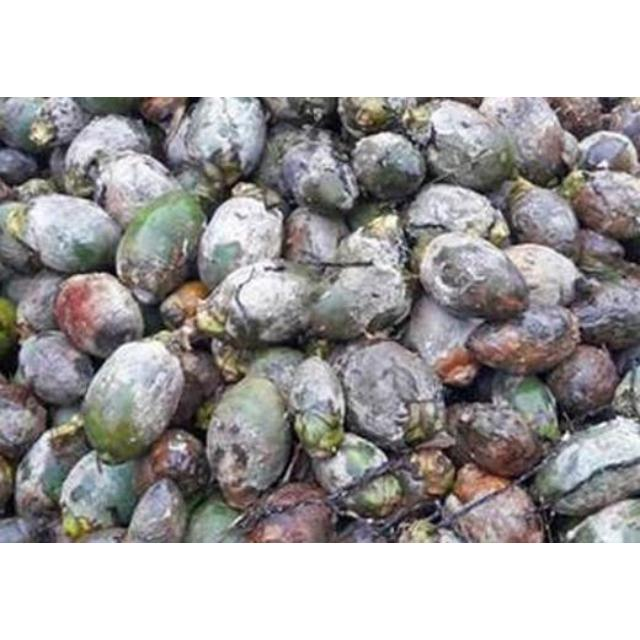damaged: (328, 340, 442, 452), (204, 375, 292, 505), (532, 418, 640, 516), (416, 232, 528, 324), (214, 262, 318, 348), (465, 303, 581, 377), (421, 101, 515, 192), (304, 260, 408, 342), (61, 114, 159, 200), (197, 195, 286, 289), (23, 194, 121, 276), (482, 98, 572, 186), (14, 420, 92, 518), (446, 401, 544, 479), (181, 98, 267, 186), (404, 296, 488, 386), (90, 153, 184, 231), (58, 452, 138, 538), (280, 132, 360, 214), (402, 182, 502, 246), (308, 433, 390, 511), (502, 177, 580, 255), (15, 332, 96, 406), (136, 426, 214, 502), (348, 132, 426, 206), (286, 358, 344, 457), (500, 242, 582, 312), (160, 343, 226, 429), (544, 344, 618, 420), (566, 167, 640, 243), (450, 485, 546, 543), (484, 374, 560, 446), (328, 217, 412, 281), (246, 482, 334, 542), (196, 266, 254, 342), (124, 478, 190, 542), (255, 123, 309, 199), (8, 272, 70, 338), (281, 206, 347, 268), (239, 346, 309, 402), (0, 382, 48, 460), (28, 98, 92, 152), (337, 98, 411, 140), (0, 98, 54, 154), (0, 202, 40, 276), (158, 280, 212, 334), (574, 130, 638, 174), (570, 228, 630, 274), (187, 496, 246, 542), (161, 109, 201, 173), (544, 98, 606, 136), (344, 198, 404, 236), (406, 225, 449, 269), (478, 98, 536, 130), (209, 338, 247, 384), (0, 147, 40, 186), (72, 98, 146, 119), (0, 514, 50, 544), (62, 158, 96, 200), (0, 294, 22, 358), (287, 97, 341, 123), (136, 298, 170, 338), (48, 144, 76, 192), (257, 98, 307, 124), (122, 116, 156, 154), (140, 98, 188, 124), (612, 337, 640, 381), (266, 120, 306, 150), (14, 178, 56, 202), (142, 122, 168, 160), (1, 379, 33, 408), (152, 328, 186, 354), (0, 454, 16, 508), (1, 169, 23, 205), (429, 524, 467, 544), (442, 492, 466, 522), (12, 360, 32, 390), (436, 97, 484, 109), (596, 97, 624, 113)
